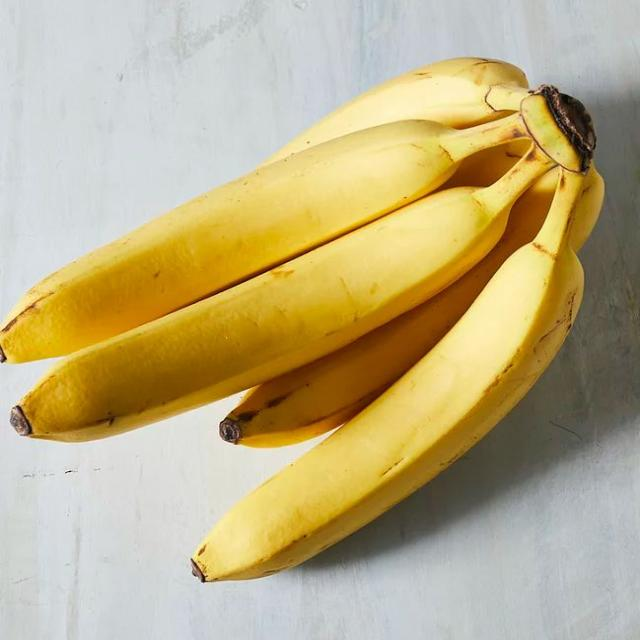unpeal banana: (12, 90, 583, 440), (193, 171, 583, 581), (0, 115, 528, 362), (220, 169, 559, 447), (268, 58, 527, 161)
